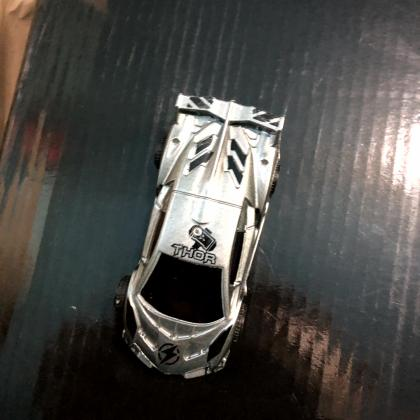Car: (116, 95, 284, 380)
